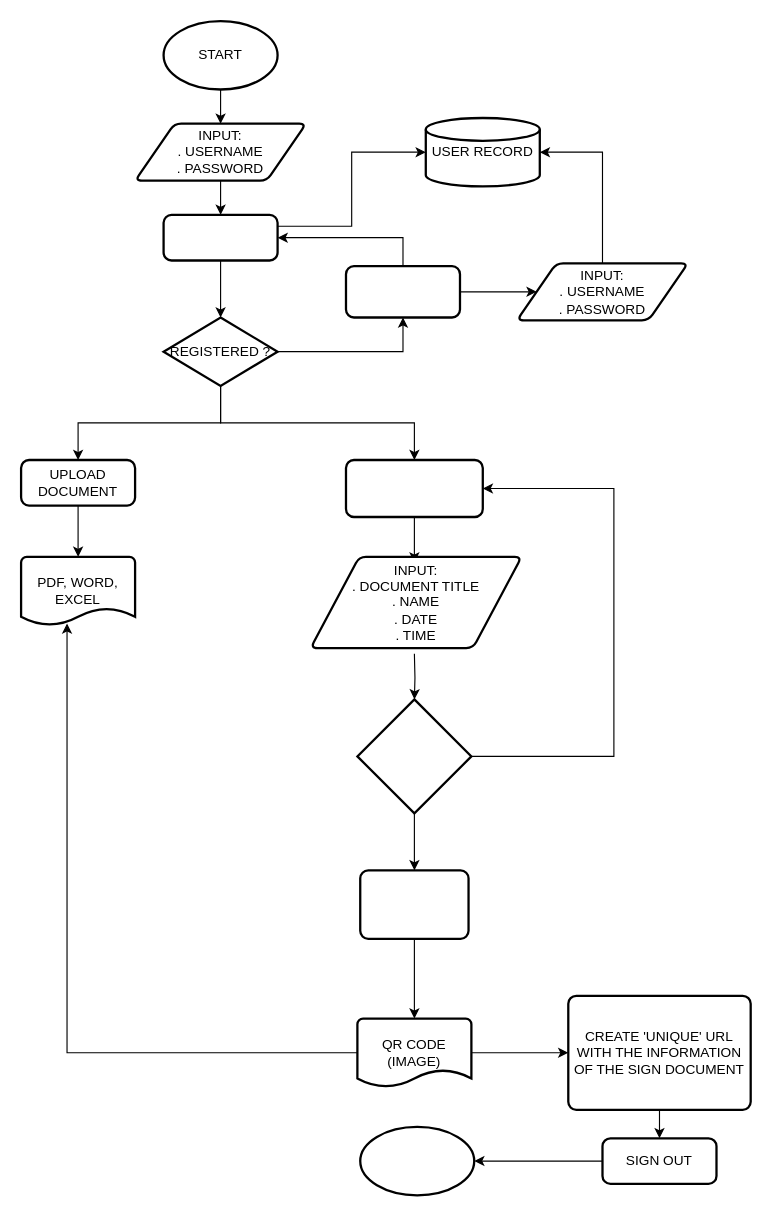
The diagram is 771 pixels wide and 1215 high, and some of its shapes have lost their labels. The box of each missing label's shape, as (x1, y1, x2, y2) in pixels:
CLICK 'DONE' TO GENERATE QR CODE: (359, 869, 469, 939)
END: (359, 1125, 475, 1196)
FILL OUT FORM TO ADD SIGNATURE: (344, 458, 483, 518)
REGISTER: (344, 264, 461, 318)
SIGN IN: (162, 213, 278, 261)
SUBMIT FORM ?: (356, 698, 472, 814)
